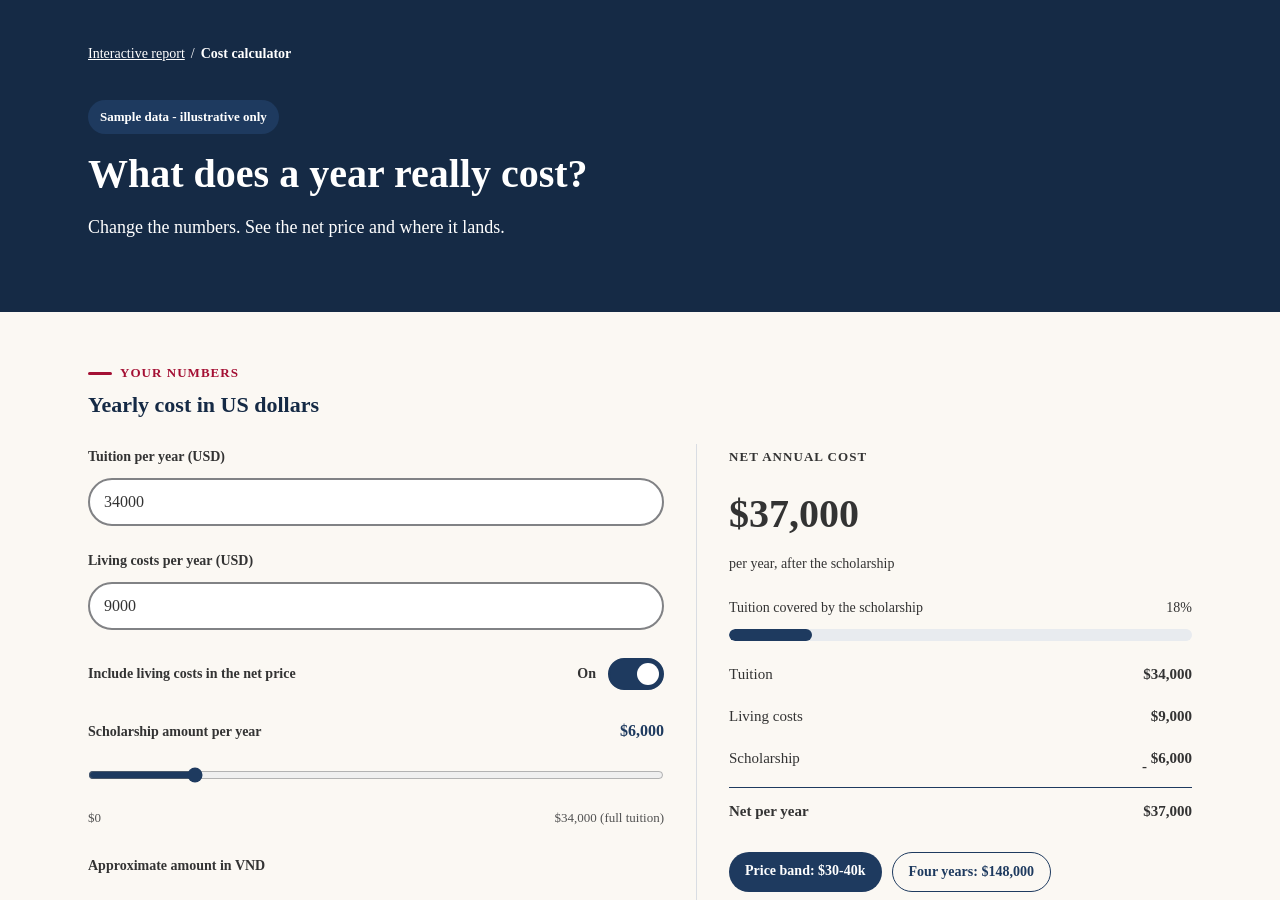
Test case: CostCalculator › leaves living costs out when the switch is turned off
The image size is (1280, 900).
Click the switch named "Include living costs in the net price": click(636, 674) [608,652,664,696]
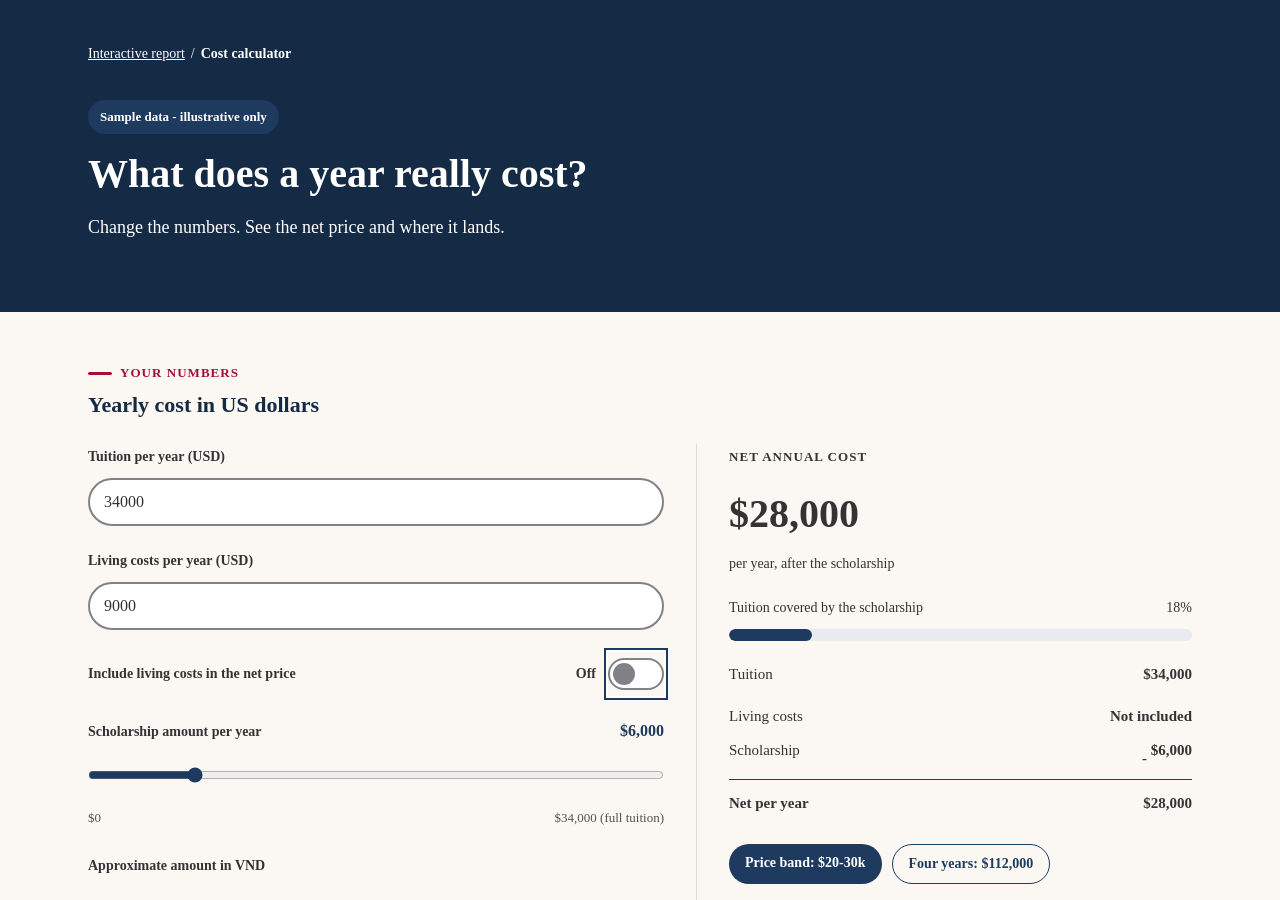
Expected: the text "Not included" is shown, [1110,703,1192,729]
